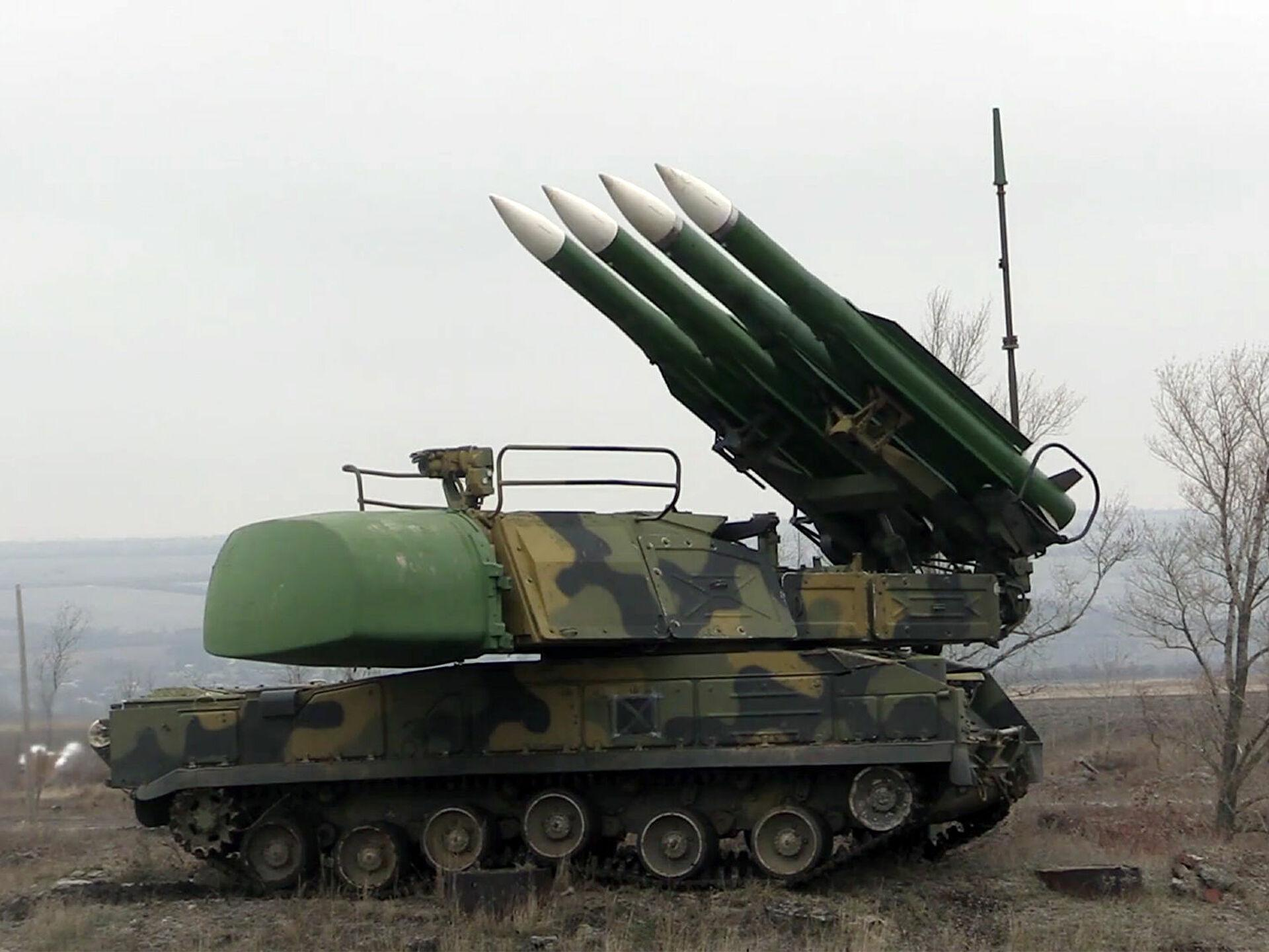rszo: (55, 141, 1211, 904)
